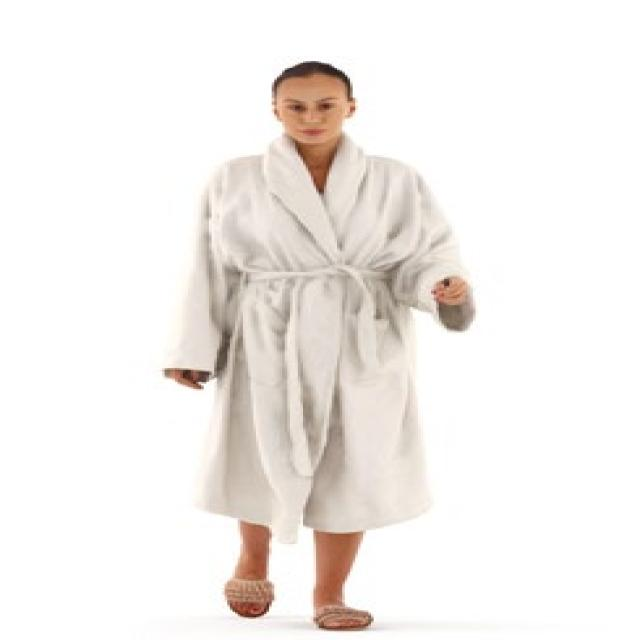standing: (157, 59, 476, 639)
